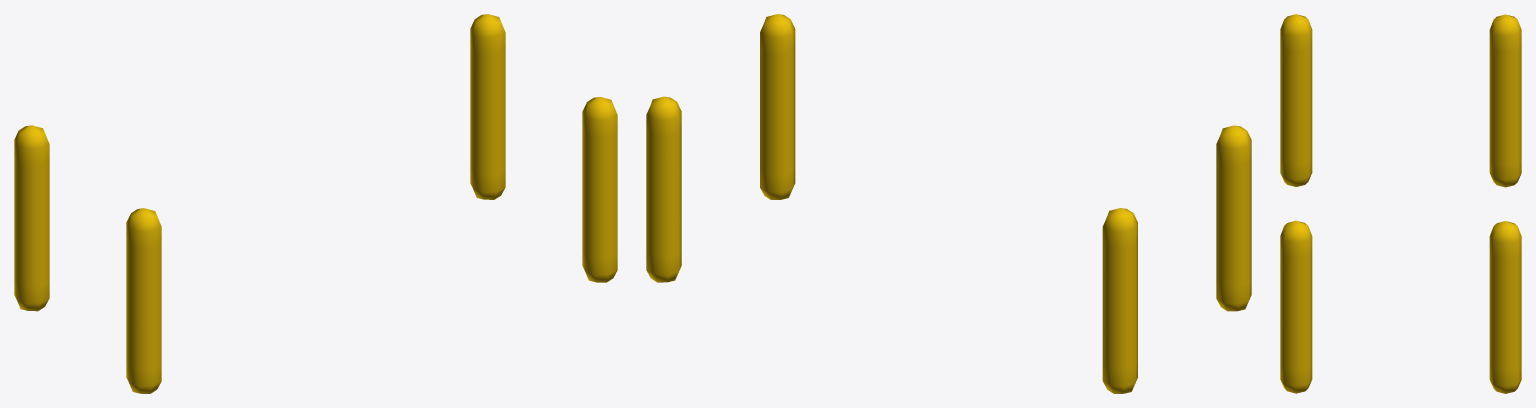
The model's file is PALOSQUESEVAAMETERALVARO.fbx.
3 views of the same model, side by side, from view 1: azimuth 30°, elevation 25°; view 2: azimuth 150°, elevation 25°; view 3: azimuth 270°, elevation 25° (orthographic). The views are drawn at different scales.
Visible parts, largest first — view 1: polySurface9, polySurface7, polySurface10, polySurface8; view 2: polySurface9, polySurface8, polySurface7, polySurface10; view 3: polySurface7, polySurface10, polySurface9, polySurface8.
Part boxes in pixels (x1,y1,x2,y2): polySurface9: [470, 14, 505, 199]; polySurface7: [14, 125, 49, 311]; polySurface10: [582, 97, 617, 282]; polySurface8: [126, 208, 161, 393]; polySurface9: [646, 96, 681, 282]; polySurface8: [1216, 125, 1251, 311]; polySurface7: [1102, 208, 1137, 393]; polySurface10: [760, 14, 795, 199]; polySurface7: [1489, 14, 1521, 187]; polySurface10: [1280, 220, 1312, 393]; polySurface9: [1489, 221, 1521, 393]; polySurface8: [1280, 14, 1312, 186].
Size of the model in its own units: 2953 by 1071 by 1367.
